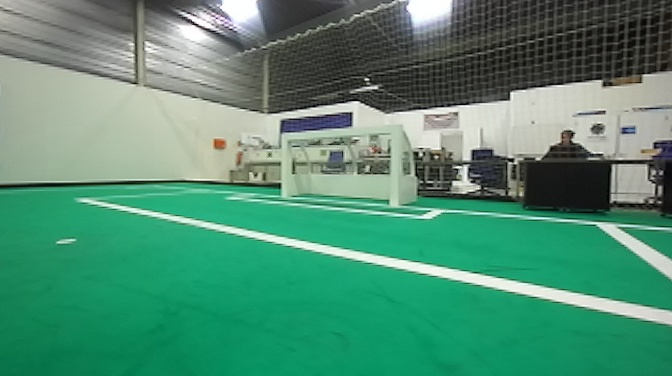goalpost: (387, 125, 408, 211), (281, 129, 293, 199)
